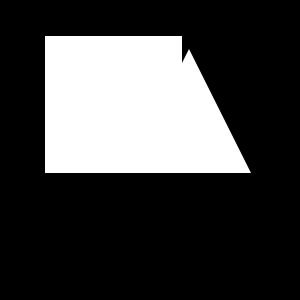circle: (45, 36, 182, 173)
triangle: (127, 49, 251, 173), (107, 118, 142, 153)
